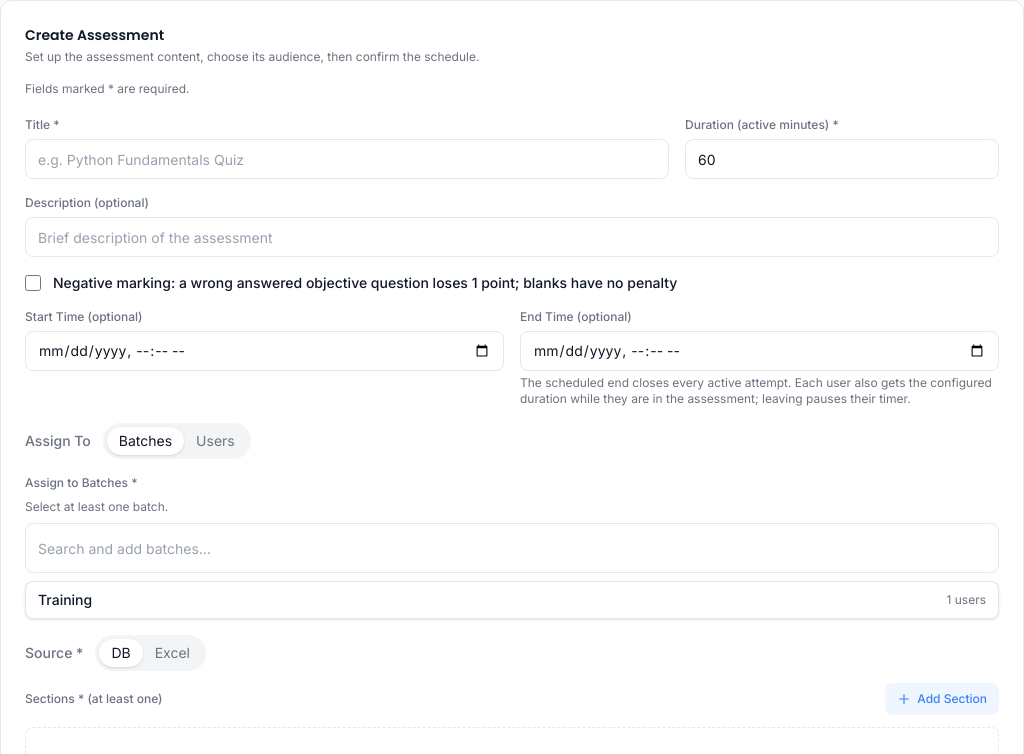
Scenario: assessment creation requirements › marks the active audience selection without requiring text in the search box
The image size is (1024, 754).
Expected: the label "Assign to Batches *" is shown, [25,475,138,490]
Step 1. Click the tab "Users" → [215, 441], box [184,427,247,455]
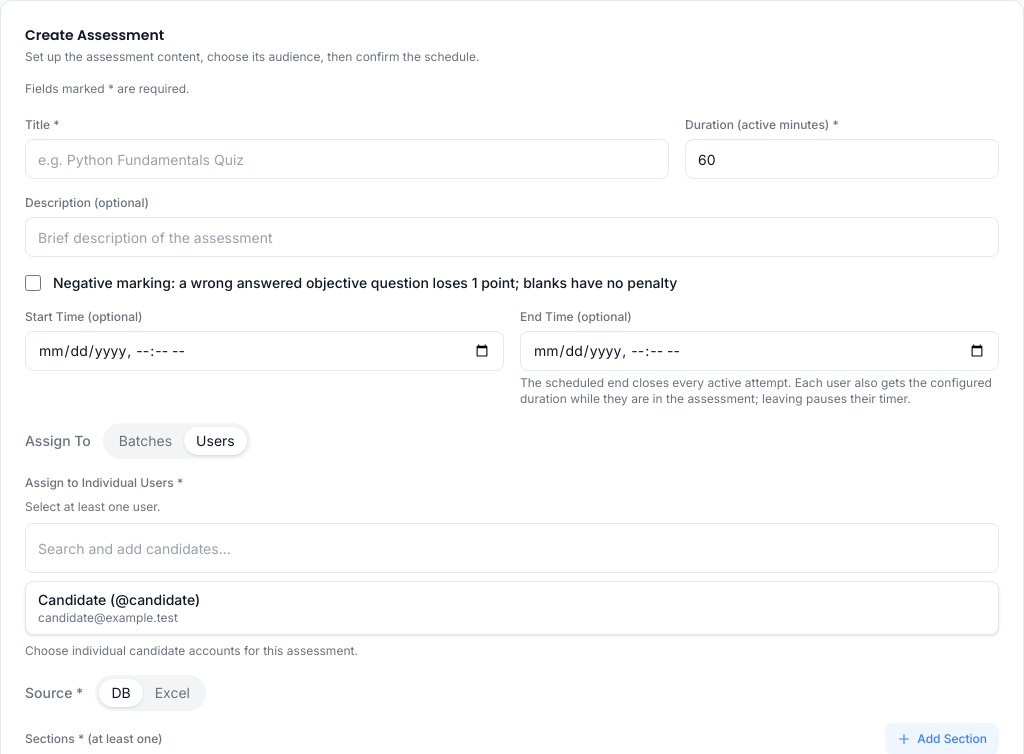
Expected: the label "Assign to Individual Users *" is shown, [25,475,183,490]
Expected: the text "Select at least one user." is shown, [25,499,160,514]
Expected: the label with id "assessment-batch-search" is gone
